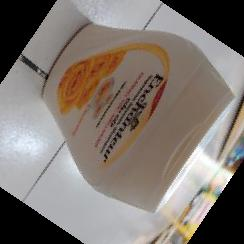enchanter: (37, 21, 234, 211)
